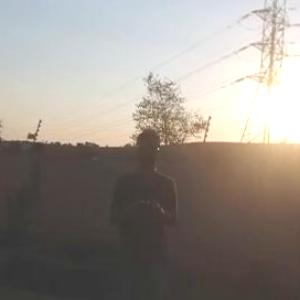follow: (104, 125, 181, 299)
